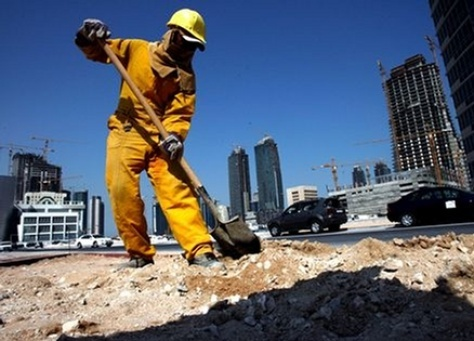yellow: (167, 10, 207, 56)
